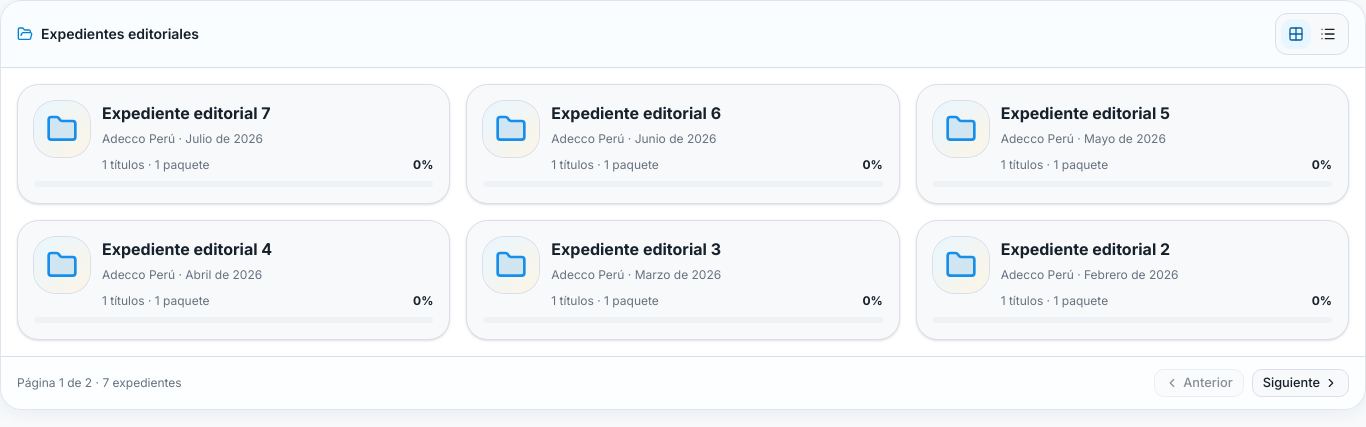
Test: TitlePackageList › pagina los expedientes en grupos de seis
This screenshot has width=1366, height=427.
Check: the text "Página 1 de 2 · 7 expedientes" is shown, box [17,375,182,391]
Check: the text "Expediente editorial 1" is not shown
Click the button "Siguiente".
click(1300, 383)  # box [1252,369,1349,397]
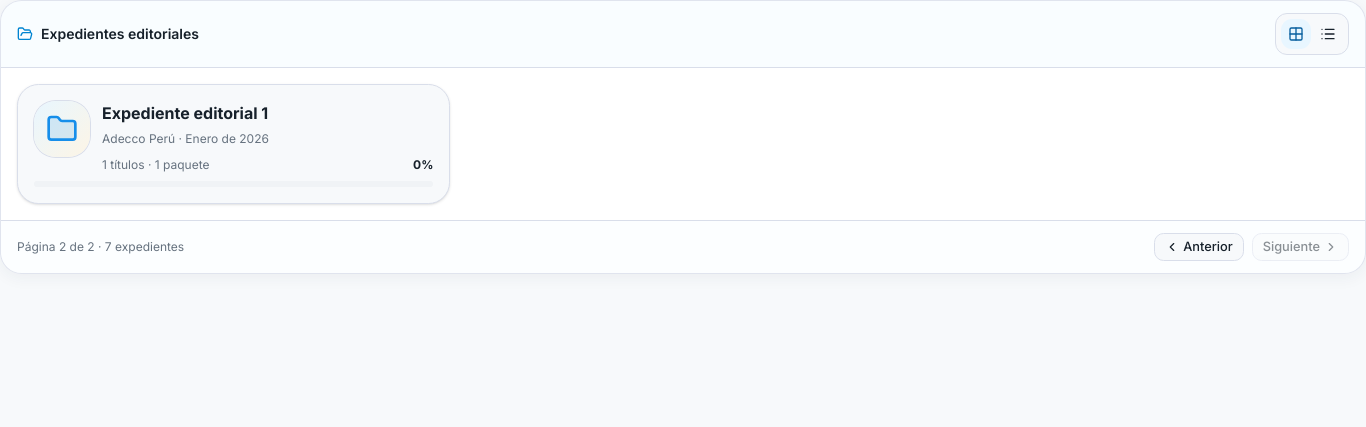
Check: the text "Página 2 de 2 · 7 expedientes" is shown, box [17,239,184,255]
Check: the text "Expediente editorial 1" is shown, box [102,103,268,123]
Check: the button "Expediente editorial 7" is gone
